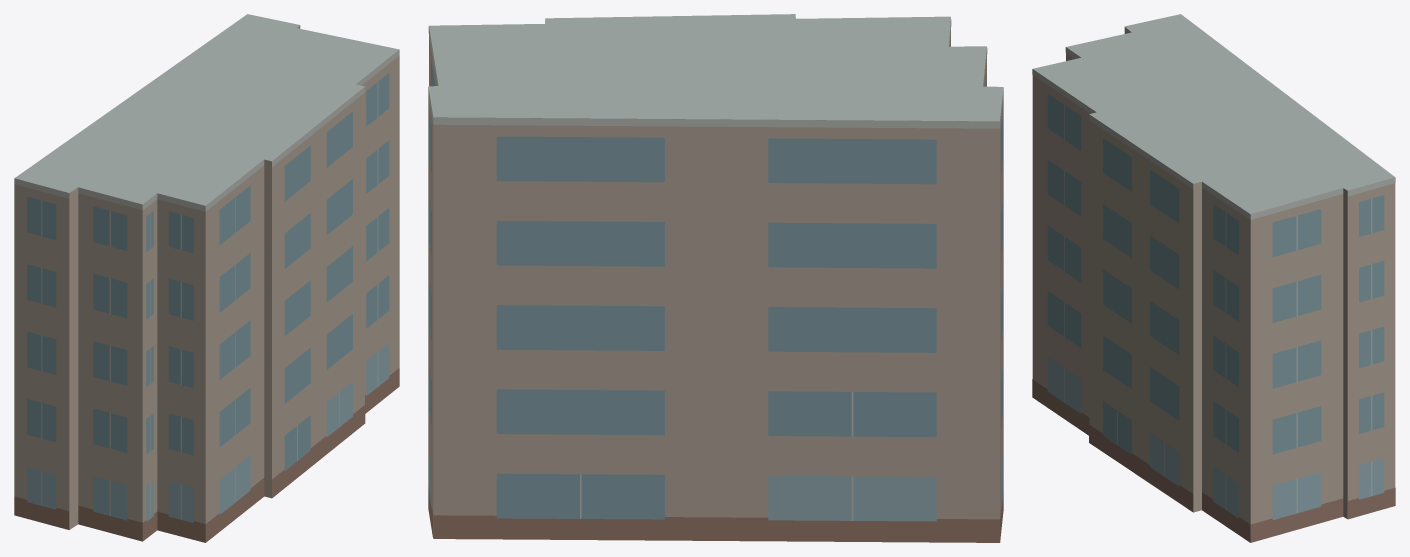
The model's file is survey-upis-32678922.glb.
3 renders of one model, left to right at view 1: azimuth 30°, elevation 25°; view 2: azimuth 150°, elevation 25°; view 3: azimuth 270°, elevation 25°, orthographic. The views are drawn at different scales.
Parts seen in each view (by area): view 1: survey-upis-32678922.tmp; view 2: survey-upis-32678922.tmp; view 3: survey-upis-32678922.tmp.
Part boxes in pixels (<box>): survey-upis-32678922.tmp: <box>14,14,399,542</box>; survey-upis-32678922.tmp: <box>428,14,1003,542</box>; survey-upis-32678922.tmp: <box>1032,14,1395,542</box>.
Bounding box in the file's own units: 18.17 × 13.9 × 13.92.
